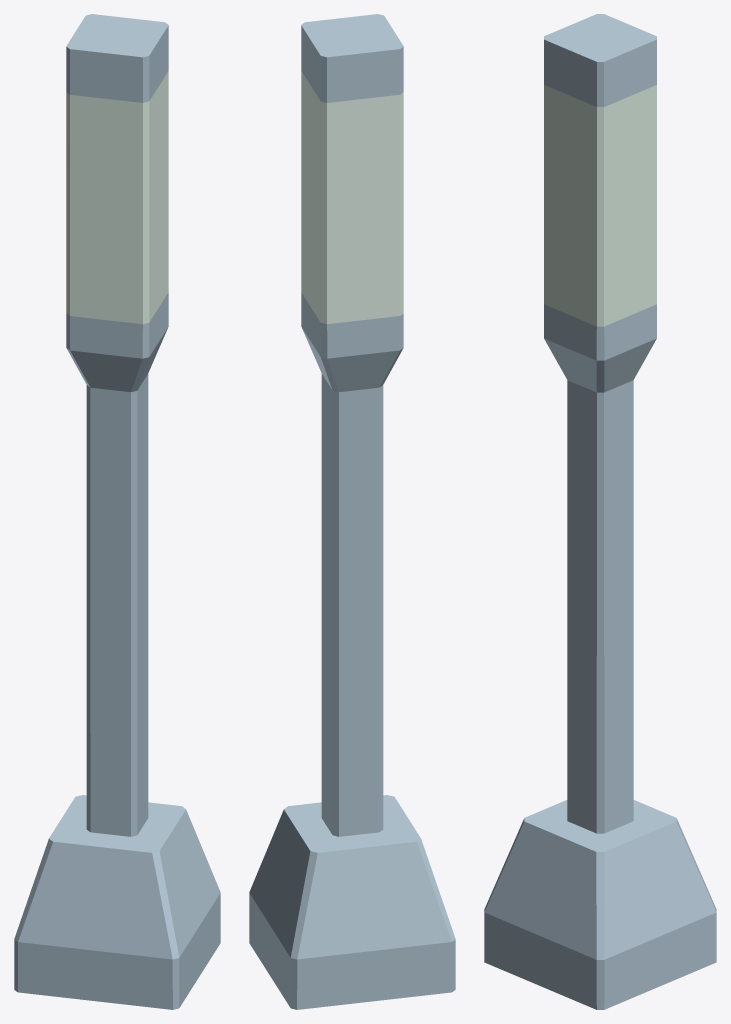
File: streetlight_01.fbx
The picture shows the model from 3 angles, left to right: view 1: azimuth 30°, elevation 25°; view 2: azimuth 150°, elevation 25°; view 3: azimuth 270°, elevation 25°; orthographic projection.
Parts seen in each view (by area): view 1: streetlight_01; view 2: streetlight_01; view 3: streetlight_01.
Boxes of the visible parts, x1,y1,x2,y2 form: streetlight_01: (14,14,220,1009); streetlight_01: (249,14,455,1009); streetlight_01: (484,14,716,1009).
Size of the model in its own units: 1.26 by 5.54 by 1.26.
